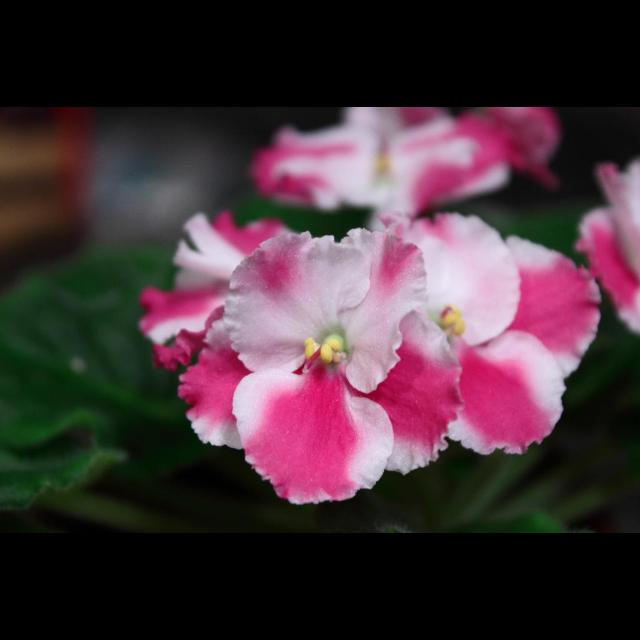Flower: (164, 218, 488, 498), (356, 224, 604, 456), (252, 108, 512, 236), (136, 212, 308, 376), (576, 160, 640, 332)
